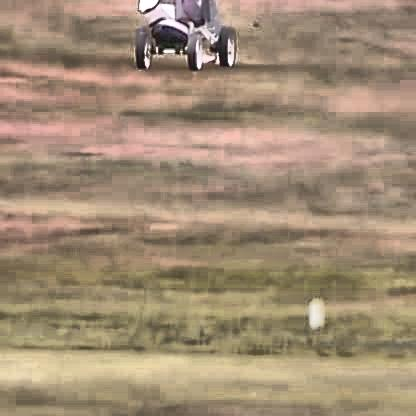golfball: (306, 294, 322, 322)
